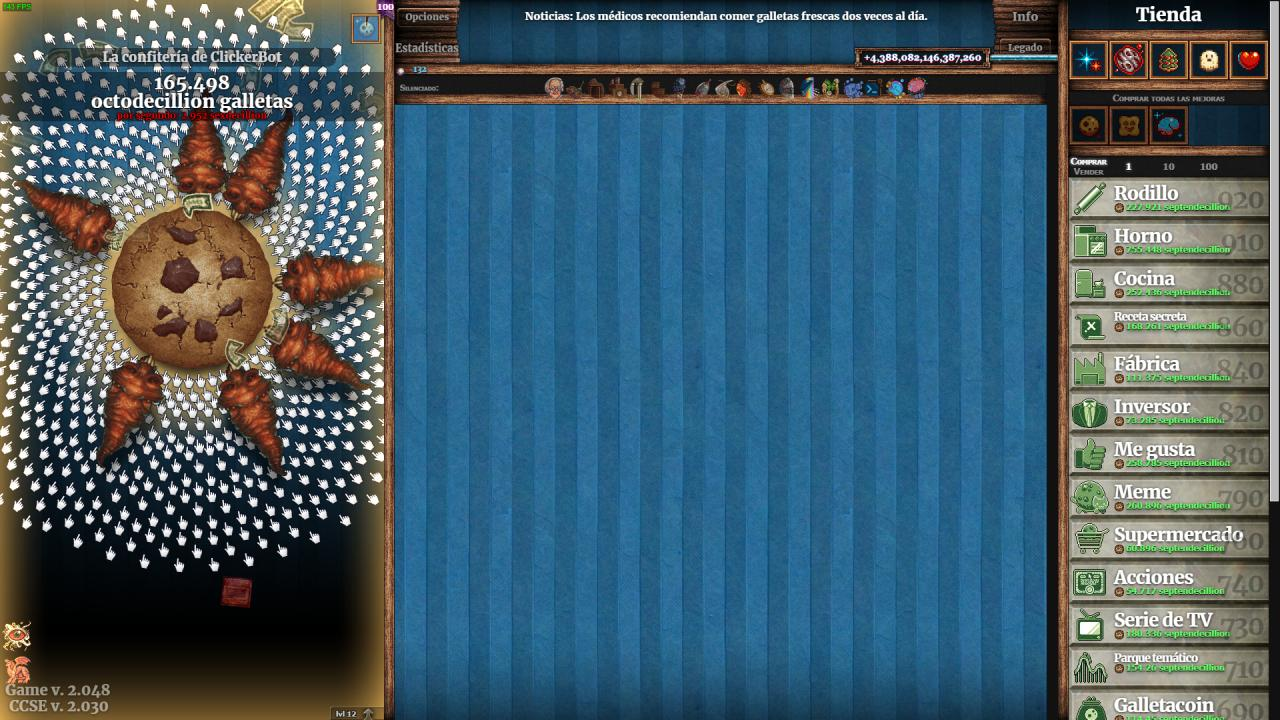RedCartridge: (219, 575, 255, 610)
